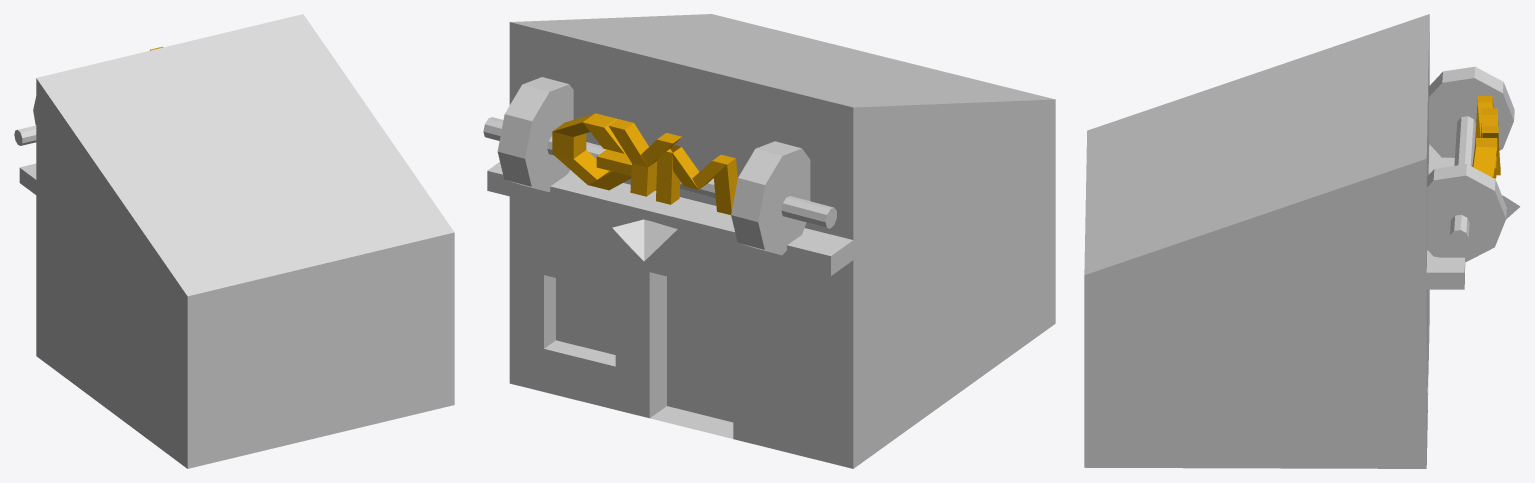
Rendered from gym.glb.
The picture shows the model from 3 angles, left to right: view 1: azimuth 30°, elevation 25°; view 2: azimuth 150°, elevation 25°; view 3: azimuth 270°, elevation 25°; orthographic projection. The views are drawn at different scales.
Visible parts, largest first — view 1: main_building; view 2: main_building, lettering, door, weight.r, weight.l, bar, lamp; view 3: main_building, weight.l, weight.r, lettering, bar.
Part boxes in pixels (<box>): main_building: <box>19,14,454,468</box>; main_building: <box>487,14,1055,468</box>; lettering: <box>552,113,737,214</box>; door: <box>667,276,733,422</box>; weight.r: <box>731,141,810,255</box>; weight.l: <box>497,77,573,191</box>; bar: <box>483,117,836,228</box>; lamp: <box>612,219,677,261</box>; main_building: <box>1084,14,1465,468</box>; weight.l: <box>1427,164,1506,261</box>; weight.r: <box>1429,66,1514,157</box>; lettering: <box>1472,96,1500,179</box>; bar: <box>1450,116,1475,246</box>.
Bounding box in the file's own units: 2.03 × 2 × 2.55.
